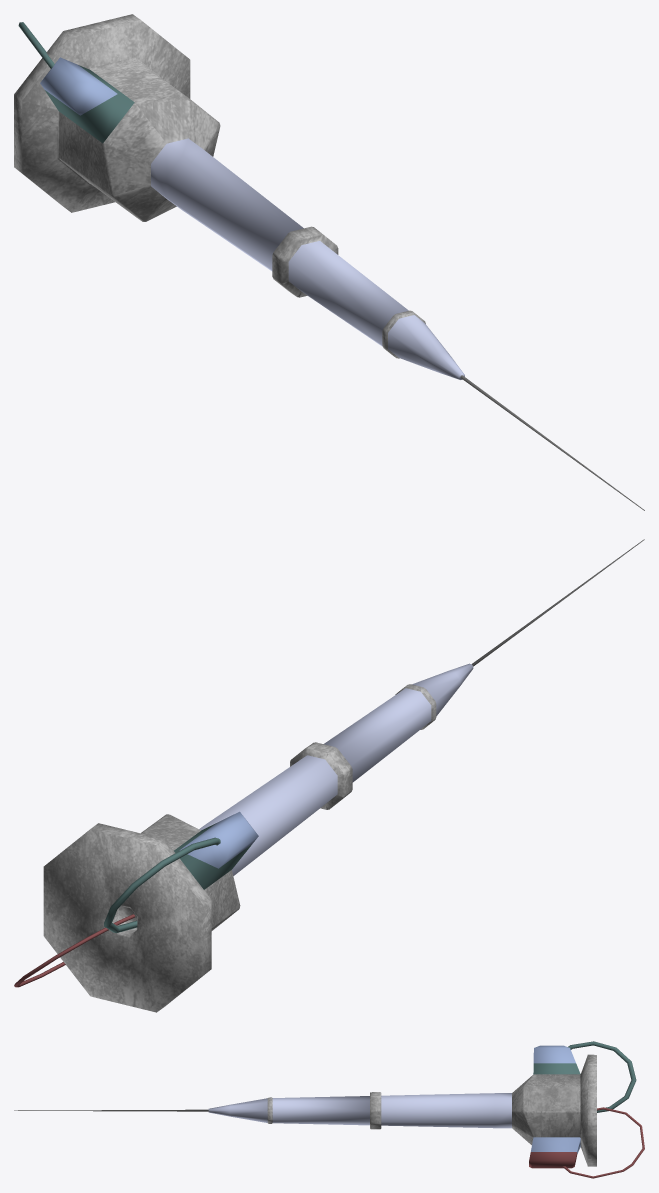
The model's file is medic_bolt.fbx.
The picture shows the model from 3 angles, top to bottom: view 1: azimuth 30°, elevation 25°; view 2: azimuth 150°, elevation 25°; view 3: azimuth 270°, elevation 25°; orthographic projection. The views are drawn at different scales.
Visible parts, largest first — view 1: BézierCircle.001; view 2: BézierCircle.001; view 3: BézierCircle.001.
Boxes of the visible parts, x1=… form: BézierCircle.001: x1=14, y1=14, x2=644, y2=510; BézierCircle.001: x1=14, y1=539, x2=644, y2=1012; BézierCircle.001: x1=14, y1=1041, x2=644, y2=1178.
Size of the model in its own units: 3.46 by 3.45 by 20.23.
Materials: 8 (1 with a texture image).
